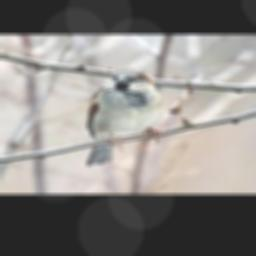Sparrow: (84, 68, 162, 165)
